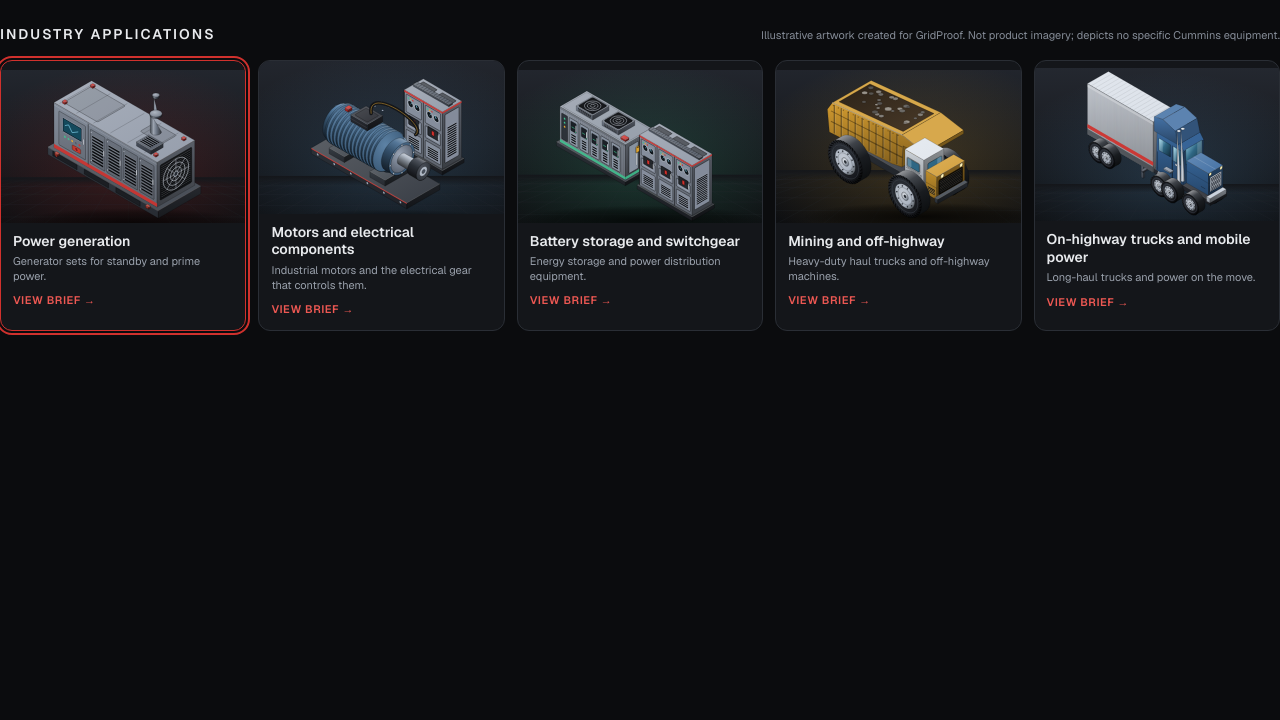
Test: application brief dialog › closes with the close button and returns focus to the card
Click the button "Power generation" at (123,195), box x1=0 y1=60 x2=246 y2=330
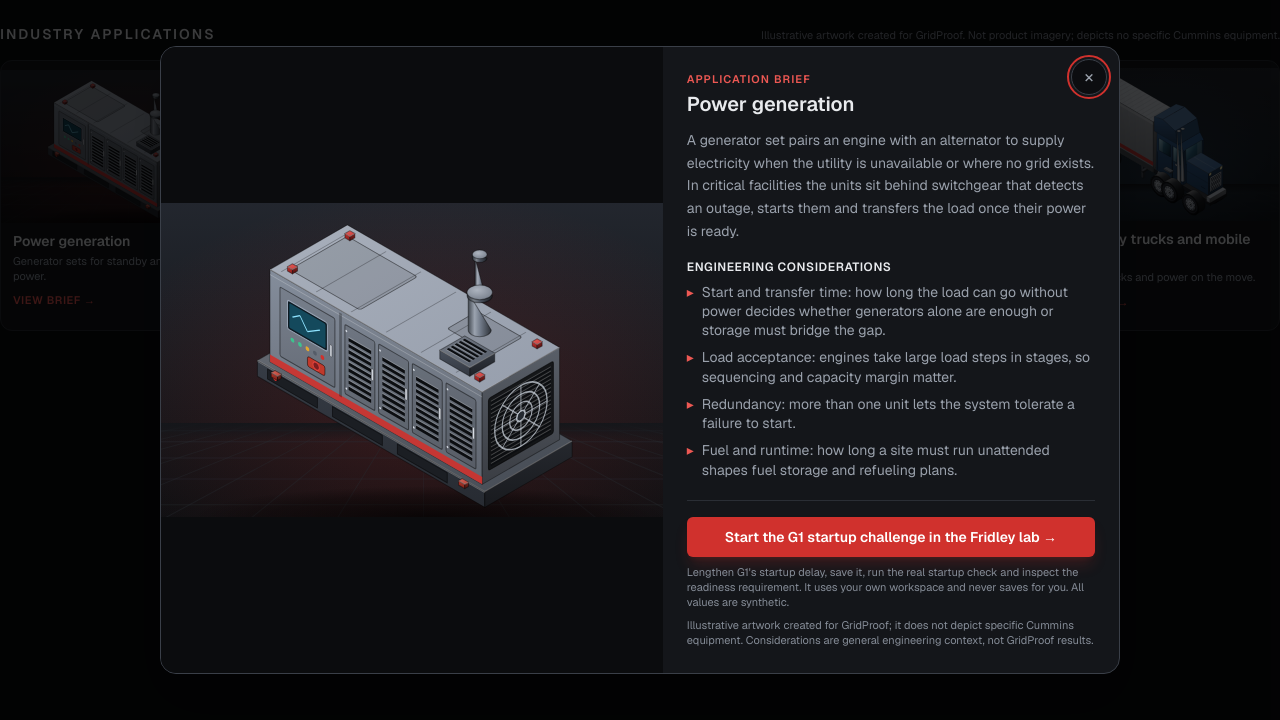
Click the button named "Close application brief" at (1089,77), box x1=1071 y1=59 x2=1107 y2=95
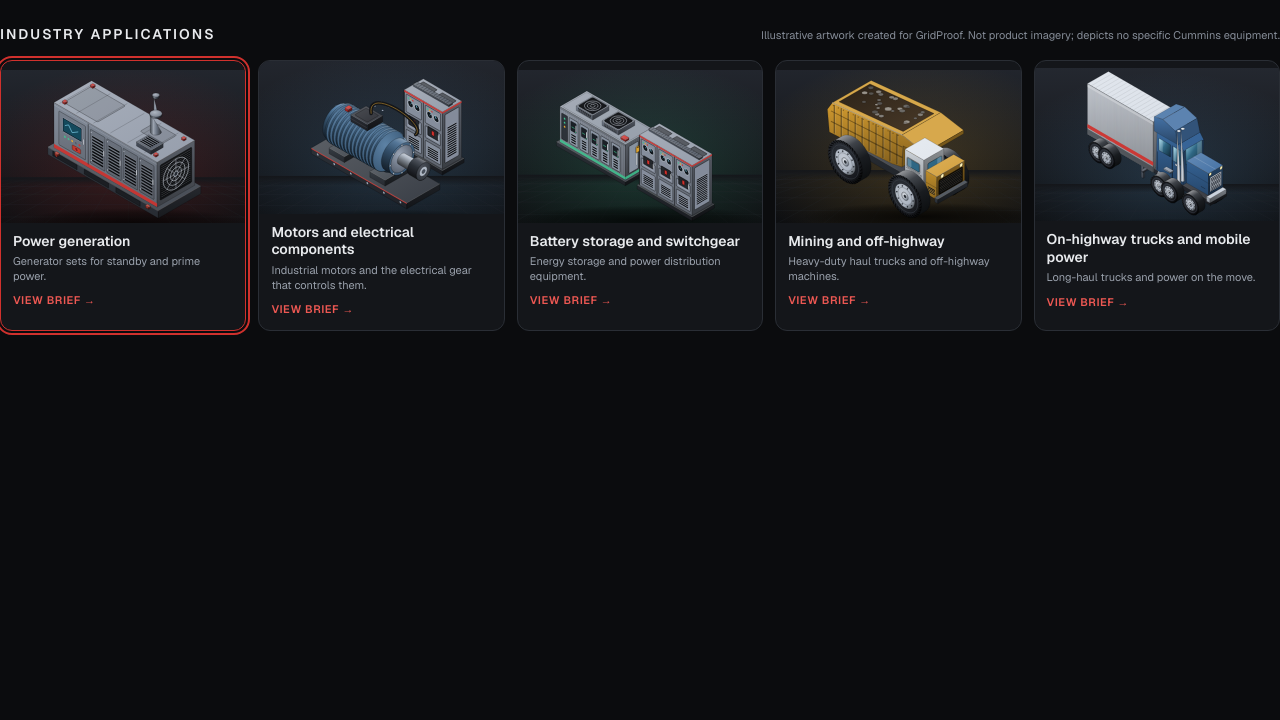
Now the dialog is gone
